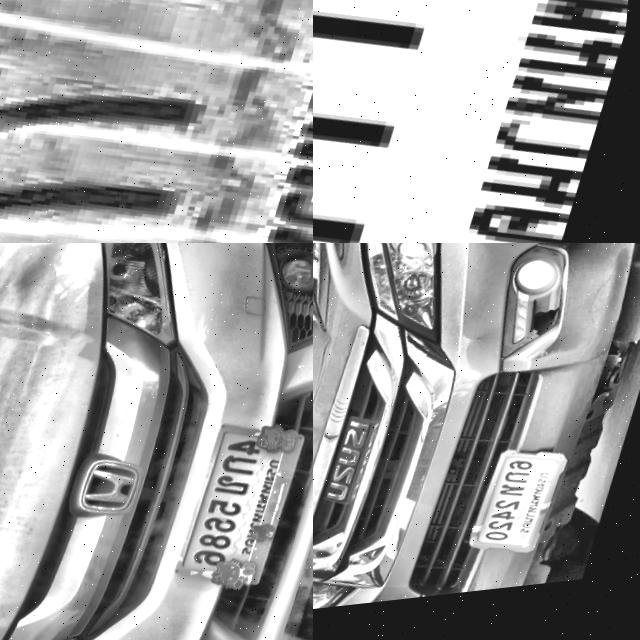license-plate: (313, 0, 640, 243), (0, 0, 313, 243), (172, 416, 313, 610), (472, 444, 587, 580)
